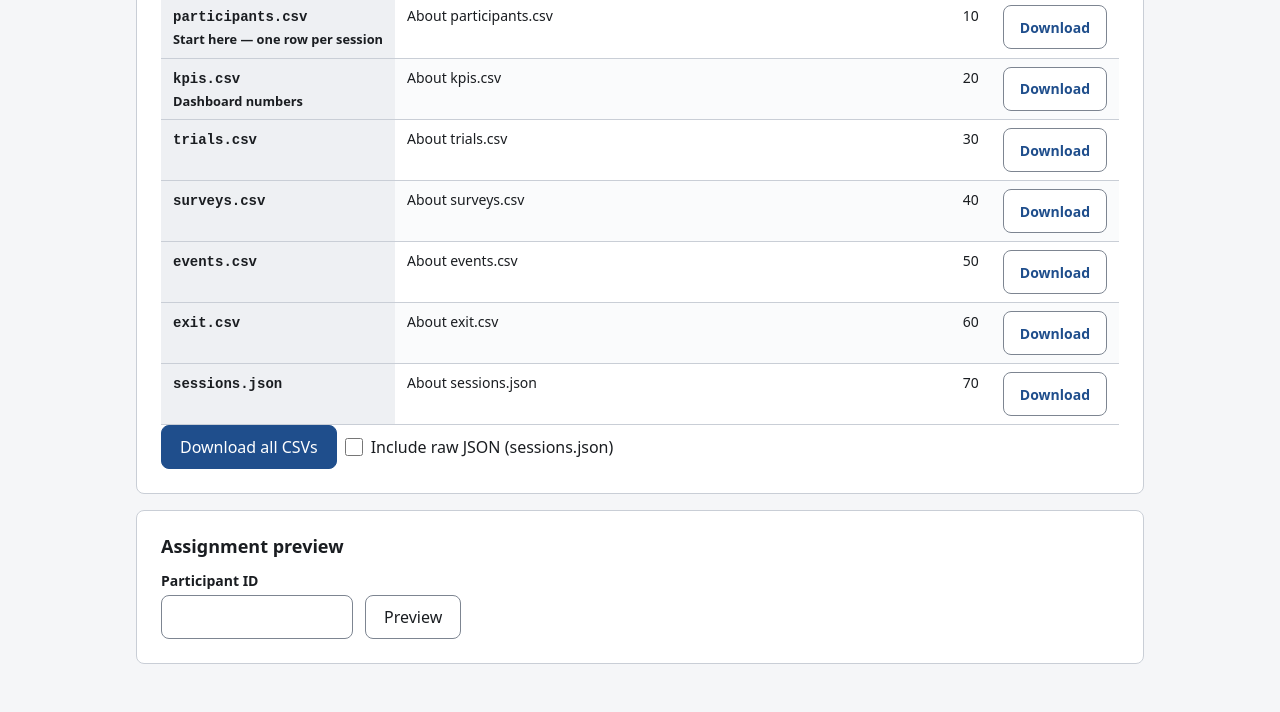
AdminScreen › previews a pid assignment without correctness data
(page scrolled)
Type "7" into the number field labelled "Participant ID".
click(257, 617); type("7")  # box [161,595,353,639]
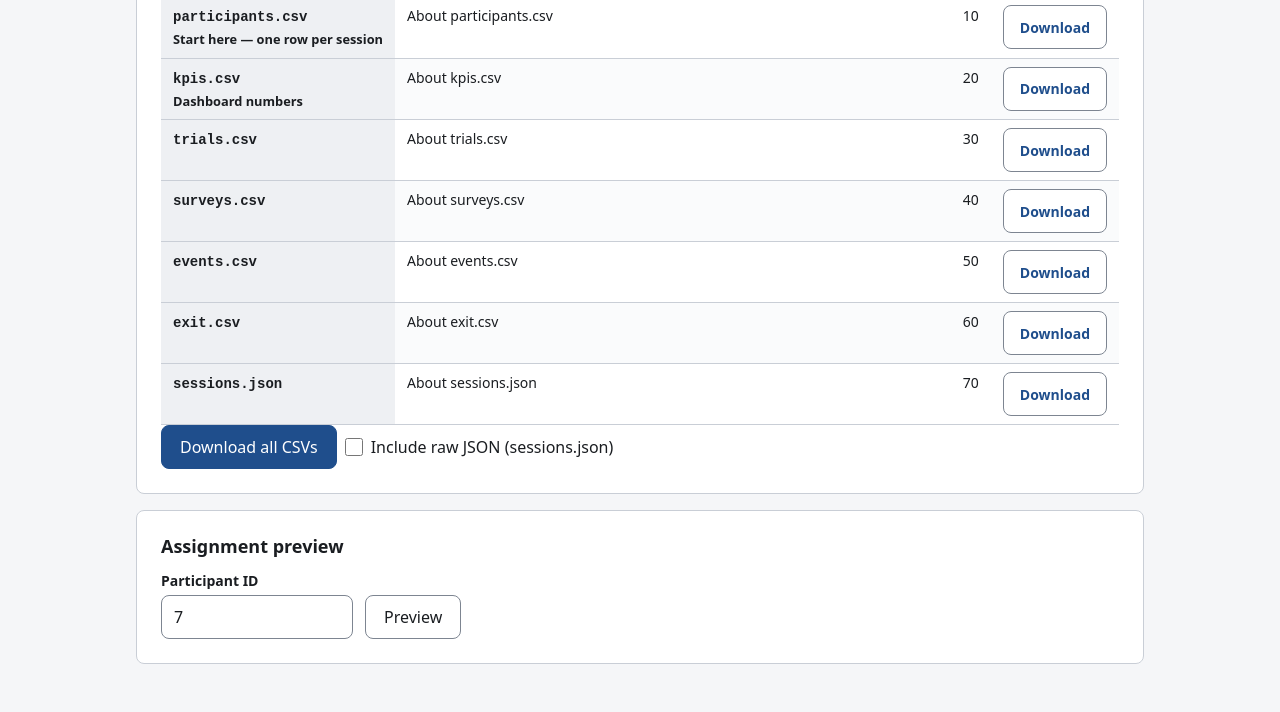
Click the button "Preview".
click(413, 617)  # box [365,595,461,639]
(page scrolled)
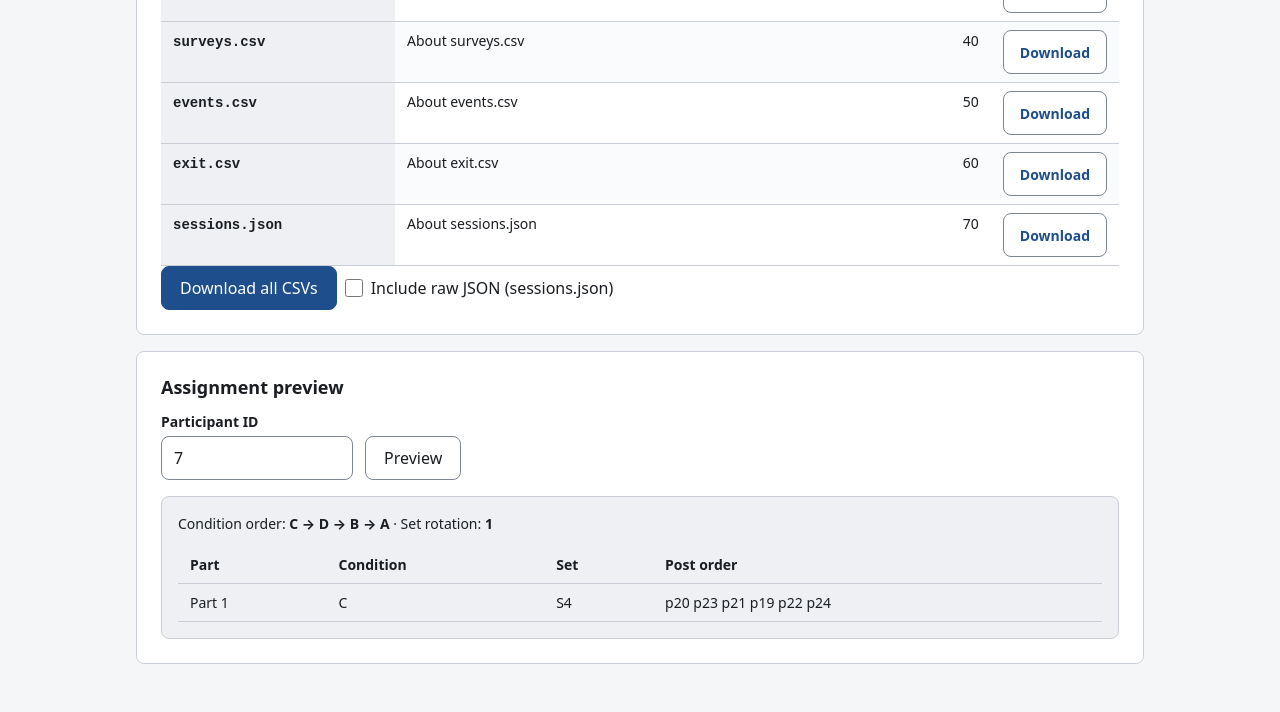
Now the text "C → D → B → A" is shown, box [289,514,390,533]
Now the text "p20 p23 p21 p19 p22 p24" is shown, box [653,583,1102,621]
